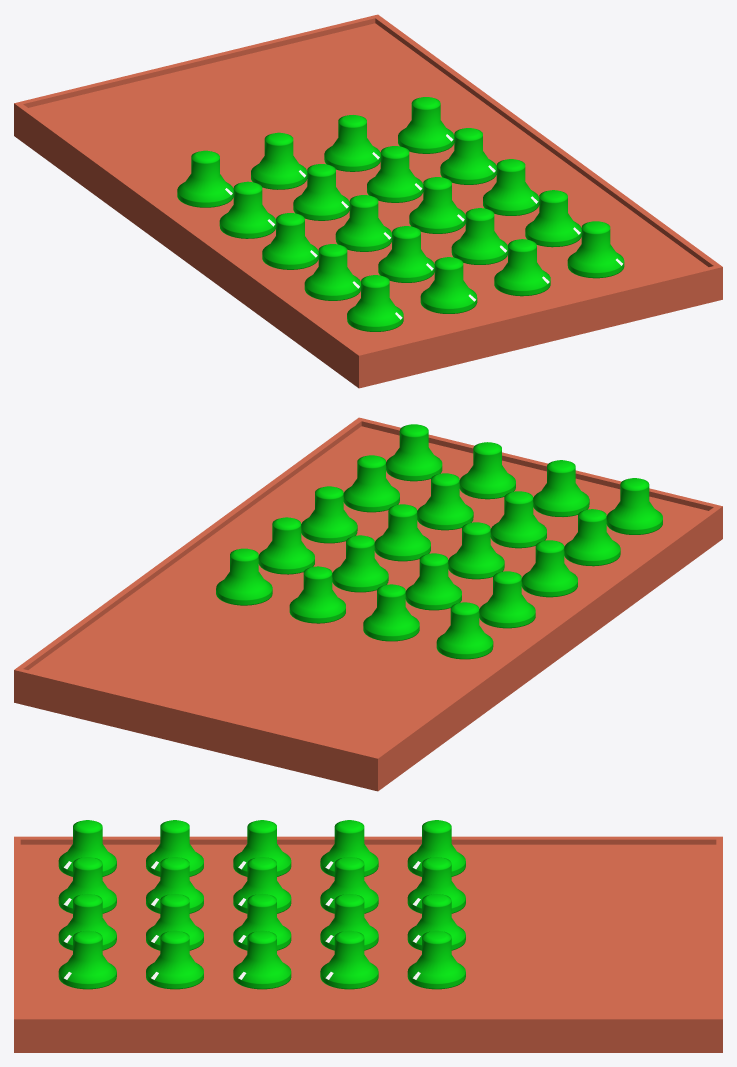
Rendered from AetherOneGo.glb.
The picture shows the model from 3 angles, top to bottom: view 1: azimuth 30°, elevation 25°; view 2: azimuth 150°, elevation 25°; view 3: azimuth 270°, elevation 25°; orthographic projection. The views are drawn at different scales.
Visible parts, largest first — view 1: DeviceBase, Knob.003, Knob.001, Knob.004, Knob.012, Knob.016, Knob.006, Knob.011, Knob.014, Knob.017, Knob.019, Knob.008 (+9 smaller); view 2: DeviceBase, Knob.016, Knob.008, Knob.018, Knob.000, Knob.005, Knob.015, Knob.019, Knob.010, Knob.013, Knob.012, Knob.003 (+9 smaller); view 3: DeviceBase, Knob.015, Knob.019, Knob.003, Knob.011, Knob.007, Knob.013, Knob.012, Knob.014, Knob.004, Knob.006, Knob.005 (+9 smaller).
Boxes of the visible parts, left/top/right/bottom form: DeviceBase: left=14, top=14, right=722, bottom=388; Knob.003: left=567, top=221, right=624, bottom=278; Knob.001: left=420, top=257, right=477, bottom=313; Knob.004: left=304, top=244, right=360, bottom=300; Knob.012: left=219, top=181, right=275, bottom=238; Knob.016: left=177, top=150, right=233, bottom=207; Knob.006: left=451, top=208, right=507, bottom=264; Knob.011: left=483, top=159, right=539, bottom=215; Knob.014: left=367, top=146, right=423, bottom=202; Knob.017: left=251, top=132, right=307, bottom=189; Knob.019: left=398, top=97, right=454, bottom=153; Knob.008: left=262, top=213, right=318, bottom=269; DeviceBase: left=14, top=417, right=722, bottom=791; Knob.016: left=436, top=602, right=493, bottom=659; Knob.008: left=521, top=540, right=577, bottom=597; Knob.018: left=289, top=566, right=345, bottom=623; Knob.000: left=606, top=478, right=662, bottom=534; Knob.005: left=490, top=491, right=546, bottom=548; Knob.015: left=258, top=517, right=314, bottom=574; Knob.019: left=216, top=548, right=272, bottom=605; Knob.010: left=374, top=504, right=430, bottom=561; Knob.013: left=405, top=553, right=461, bottom=610; Knob.012: left=479, top=571, right=535, bottom=628; Knob.003: left=386, top=424, right=442, bottom=481; DeviceBase: left=14, top=836, right=722, bottom=1052; Knob.015: left=320, top=930, right=378, bottom=989; Knob.019: left=407, top=930, right=465, bottom=989; Knob.003: left=58, top=930, right=116, bottom=989; Knob.011: left=233, top=930, right=291, bottom=989; Knob.007: left=146, top=930, right=203, bottom=989; Knob.013: left=320, top=857, right=378, bottom=913; Knob.012: left=320, top=820, right=378, bottom=876; Knob.014: left=320, top=894, right=378, bottom=950; Knob.004: left=146, top=820, right=203, bottom=876; Knob.006: left=146, top=894, right=203, bottom=950; Knob.005: left=146, top=857, right=203, bottom=913.
Bounding box in the file's own units: 6.16 × 1.14 × 10.11.
